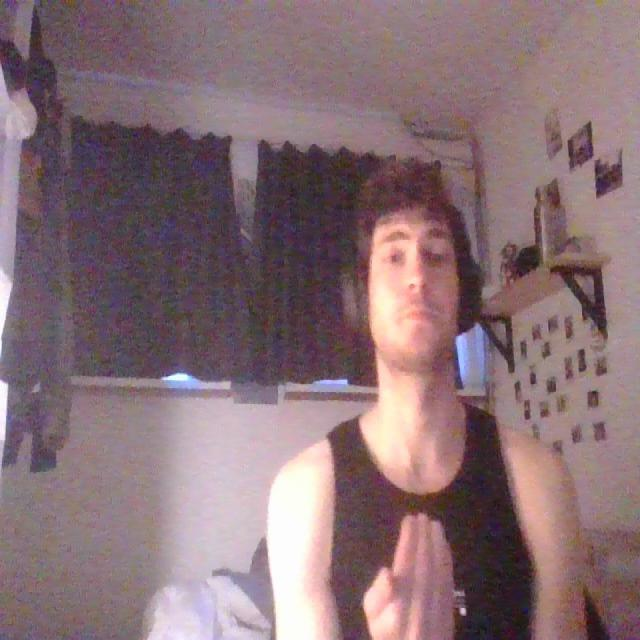forward: (359, 512, 461, 639)
